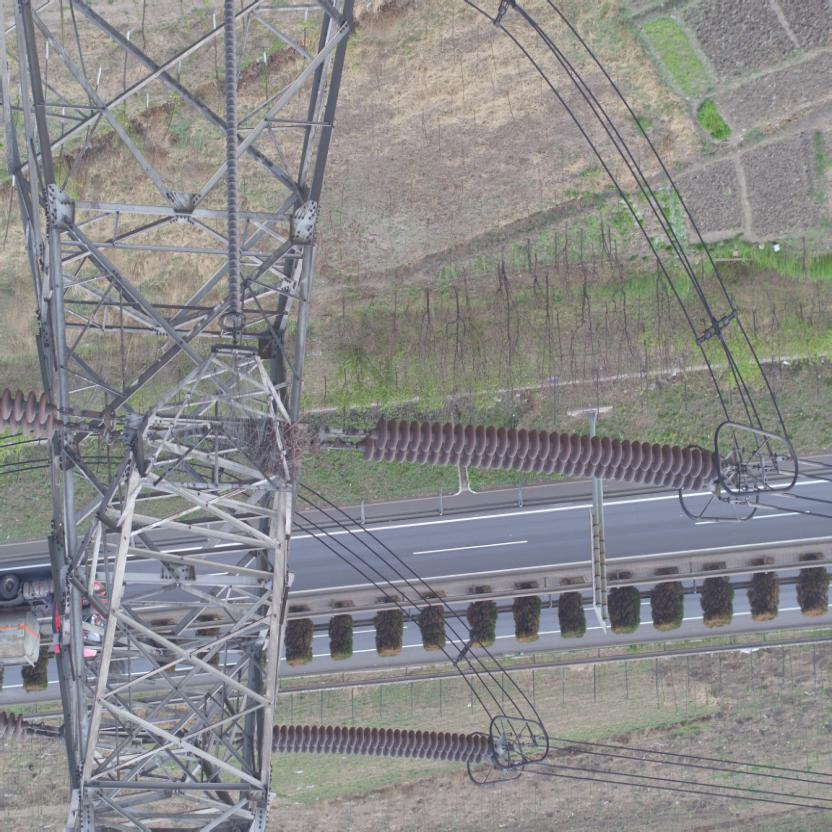insulator: (336, 418, 724, 496), (273, 724, 504, 766)
